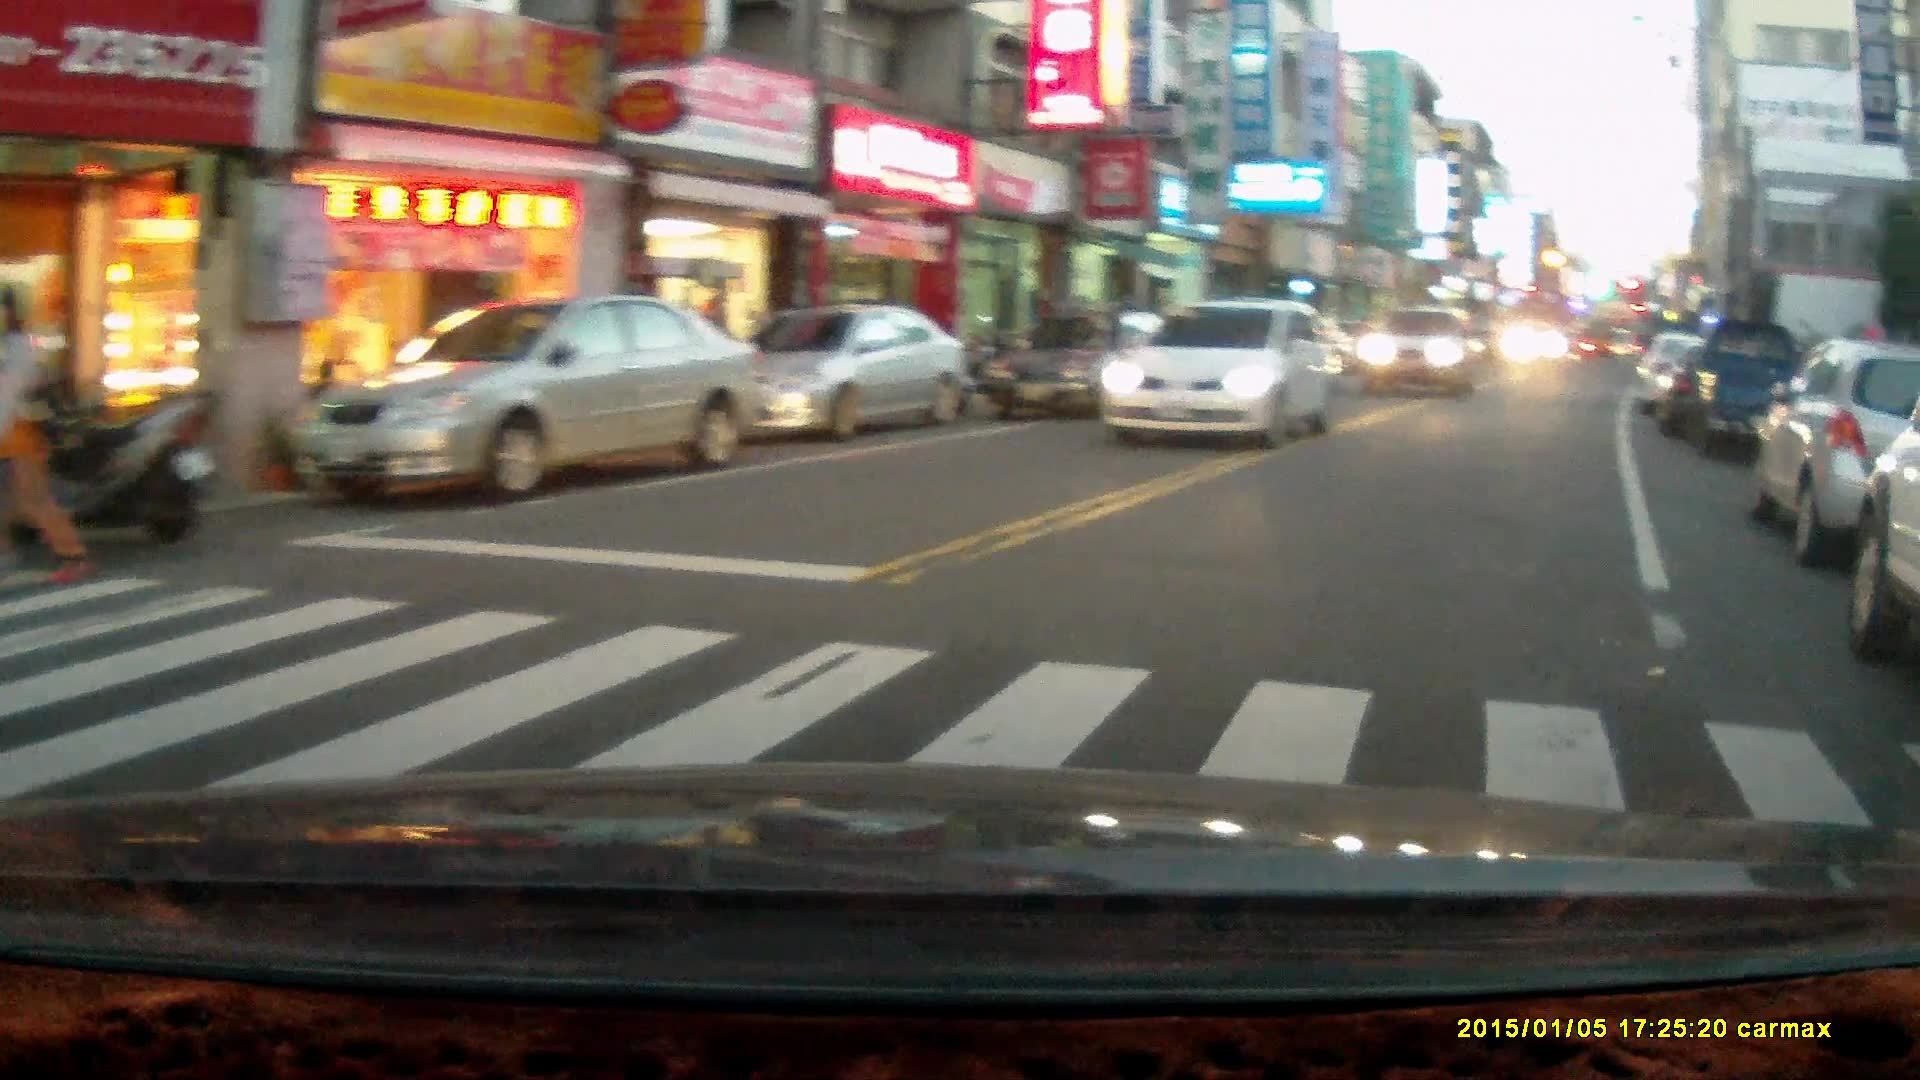pedestrian: (0, 279, 92, 586)
vehicle: (293, 289, 773, 507), (1098, 293, 1346, 447), (1755, 331, 1920, 562), (695, 301, 972, 433), (989, 313, 1187, 430), (1668, 316, 1808, 457), (1348, 300, 1486, 392), (1498, 314, 1569, 365)
